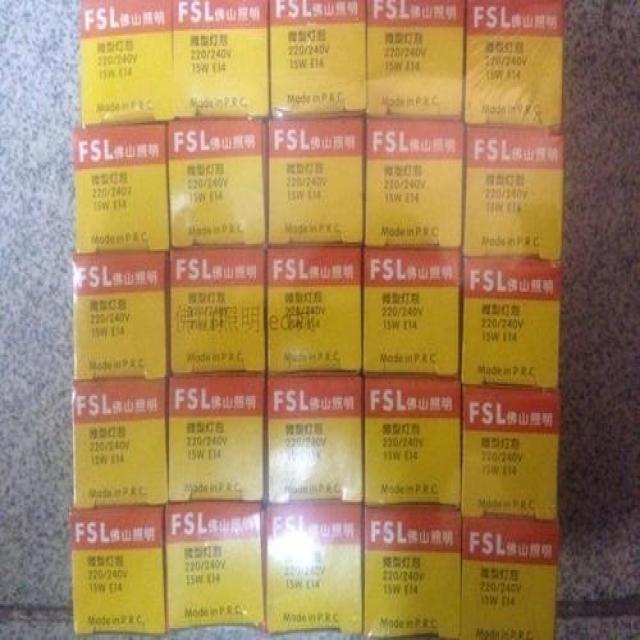box: (363, 373, 462, 513), (364, 112, 465, 247), (459, 384, 560, 519), (465, 123, 564, 257), (165, 500, 267, 630), (166, 119, 267, 250), (464, 1, 566, 130), (265, 115, 364, 247), (461, 257, 560, 389), (265, 373, 364, 505), (364, 246, 462, 379), (75, 119, 172, 253), (264, 245, 365, 373), (363, 507, 463, 636), (71, 249, 170, 379), (265, 500, 361, 633), (70, 503, 167, 633), (171, 371, 266, 502), (71, 382, 171, 506), (78, 0, 173, 128), (459, 511, 557, 635), (170, 250, 266, 373), (364, 3, 464, 120), (172, 0, 270, 119), (267, 0, 365, 117)
